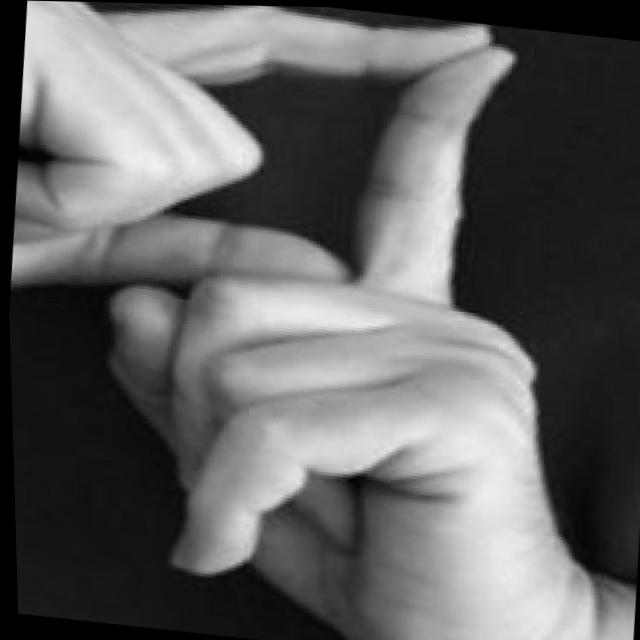D: (0, 0, 587, 640)
